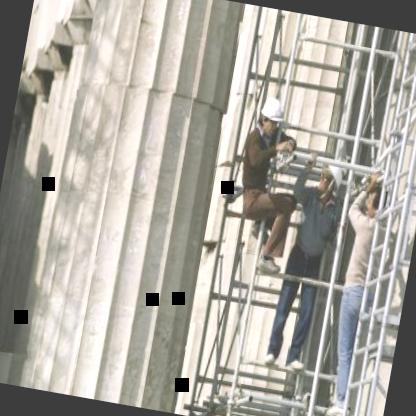helmet: (314, 154, 344, 200), (256, 94, 288, 134)
